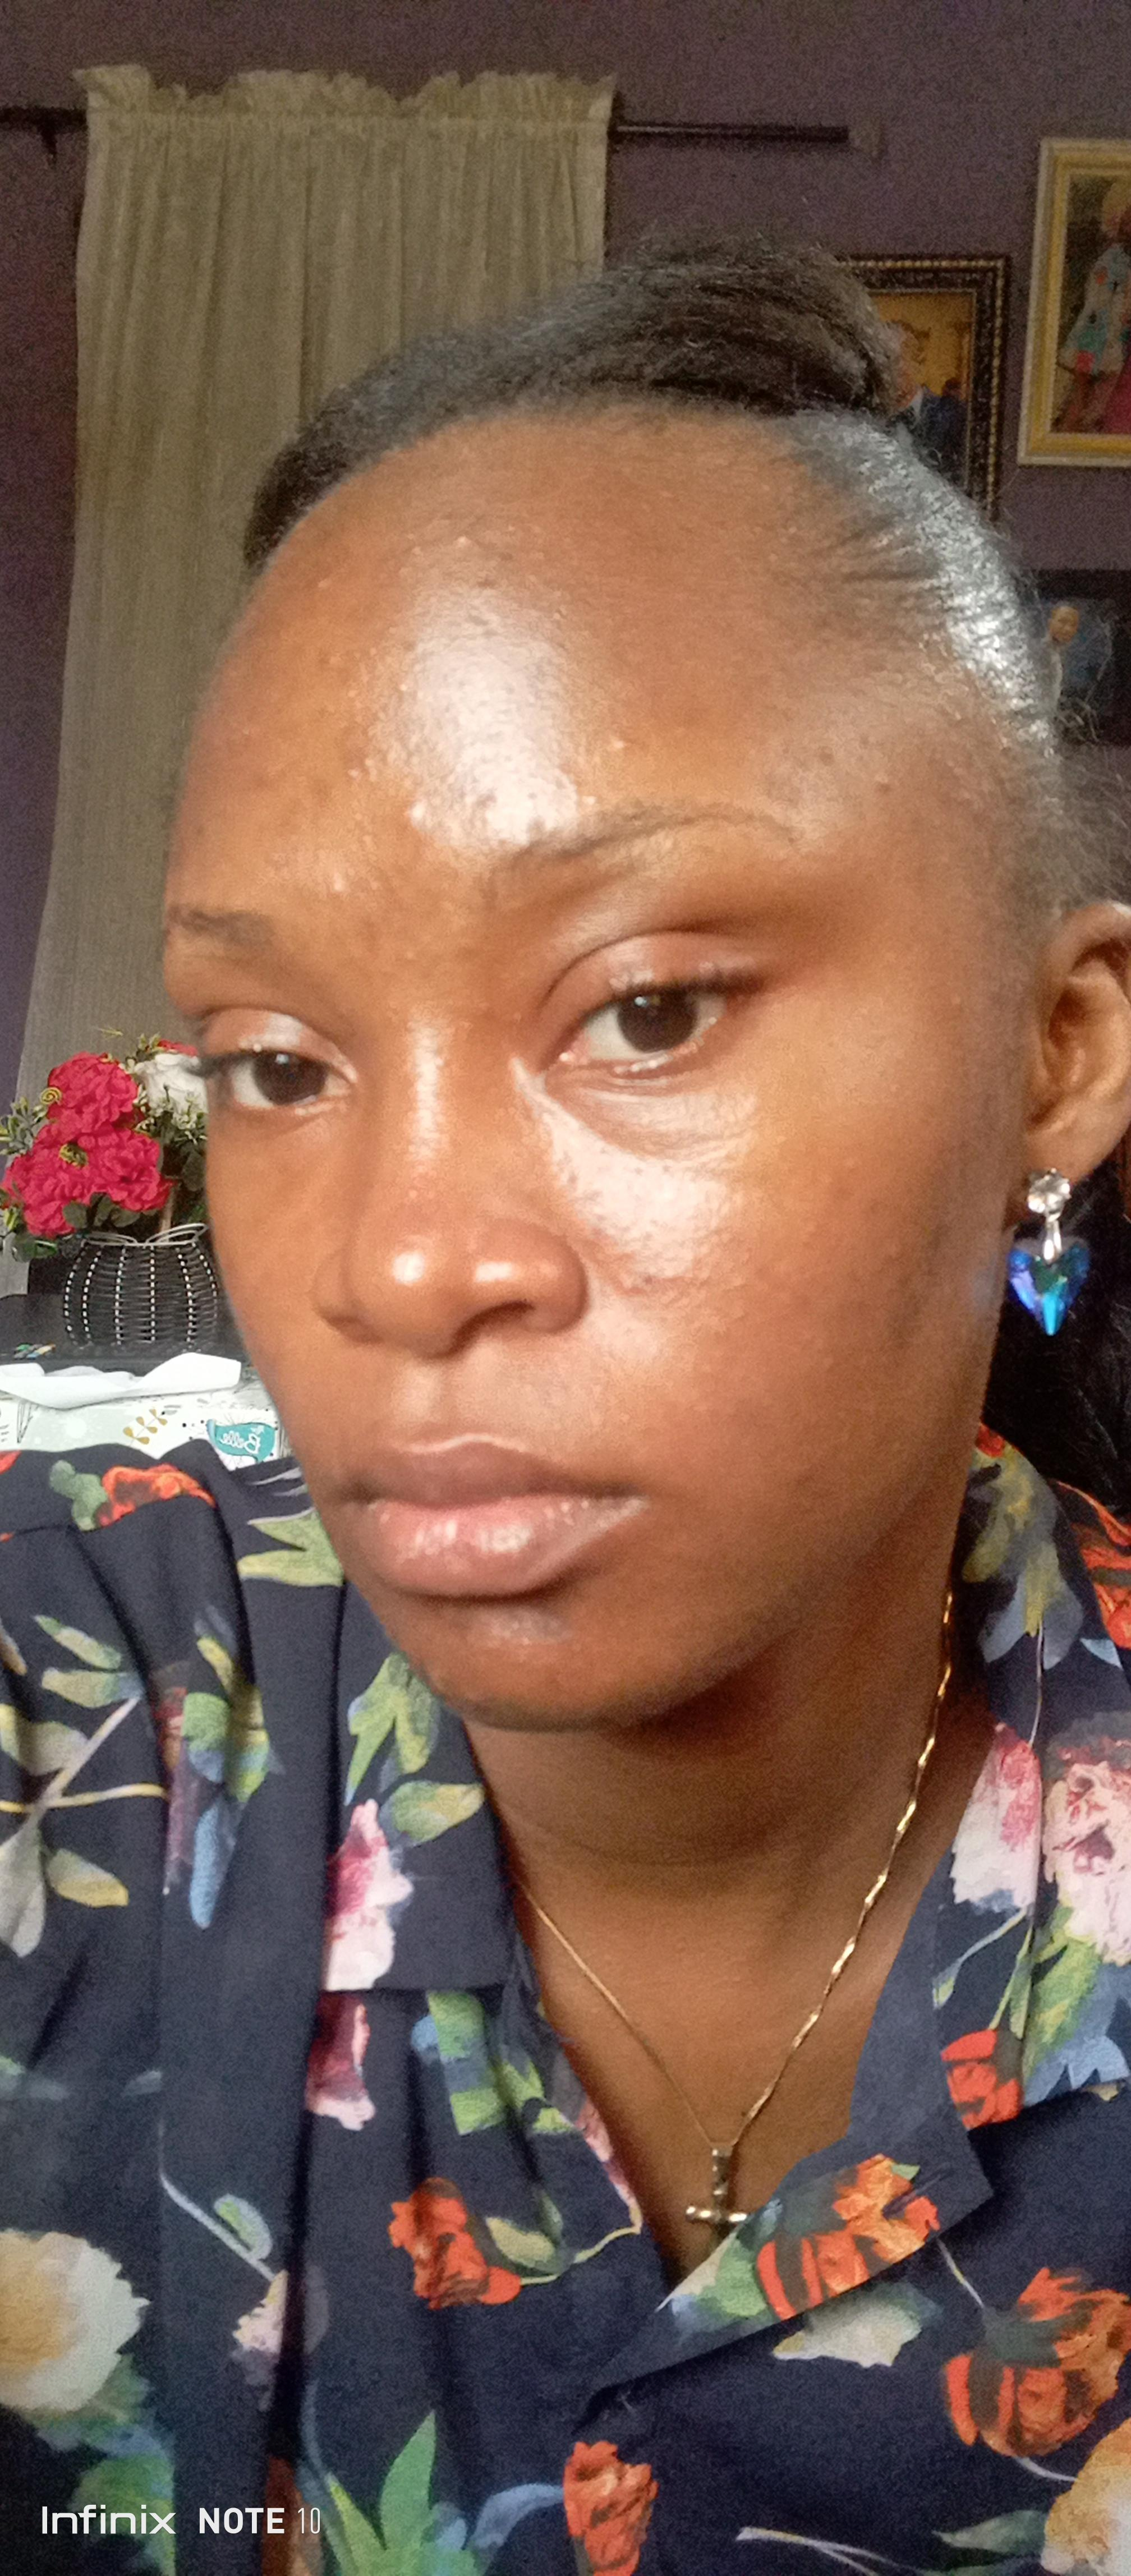Acne: (344, 682, 411, 734), (559, 1157, 608, 1203), (339, 749, 399, 780), (386, 540, 432, 580), (613, 1262, 704, 1280), (556, 771, 602, 805), (465, 789, 498, 835), (248, 761, 291, 795), (319, 647, 357, 682), (398, 794, 429, 830), (810, 739, 842, 771), (607, 728, 636, 757), (515, 817, 544, 846), (779, 1464, 814, 1488), (934, 994, 963, 1022), (321, 872, 347, 902), (312, 565, 337, 596), (626, 1160, 677, 1175), (875, 1242, 901, 1270), (483, 537, 513, 560), (403, 634, 427, 660), (398, 1014, 426, 1035), (447, 531, 475, 552), (475, 573, 500, 596), (467, 1000, 493, 1022), (820, 1349, 838, 1375), (396, 945, 418, 966), (358, 825, 378, 848), (873, 772, 893, 795), (233, 723, 255, 743), (429, 1051, 454, 1068), (360, 641, 380, 660), (728, 1278, 746, 1296), (728, 1309, 748, 1326), (840, 1153, 856, 1170), (439, 1663, 447, 1691)
